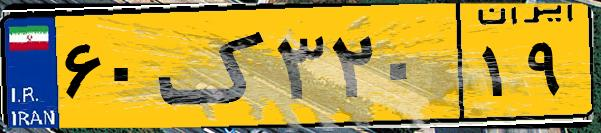0: (385, 28, 445, 110), (110, 28, 158, 98)
1: (475, 38, 525, 113)
2: (330, 28, 385, 110)
3: (270, 28, 330, 110)
6: (57, 26, 110, 100)
9: (525, 38, 570, 115)
ک: (158, 12, 270, 120)
